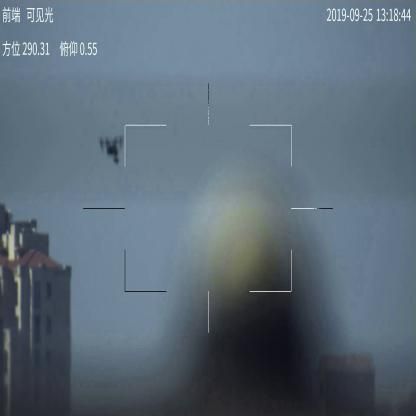uav: (99, 134, 125, 166)
